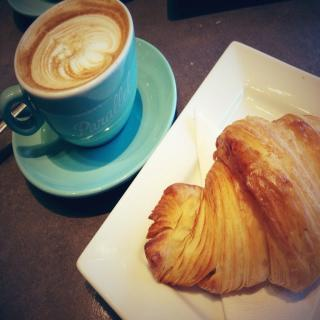Croissant: (144, 115, 320, 295)
